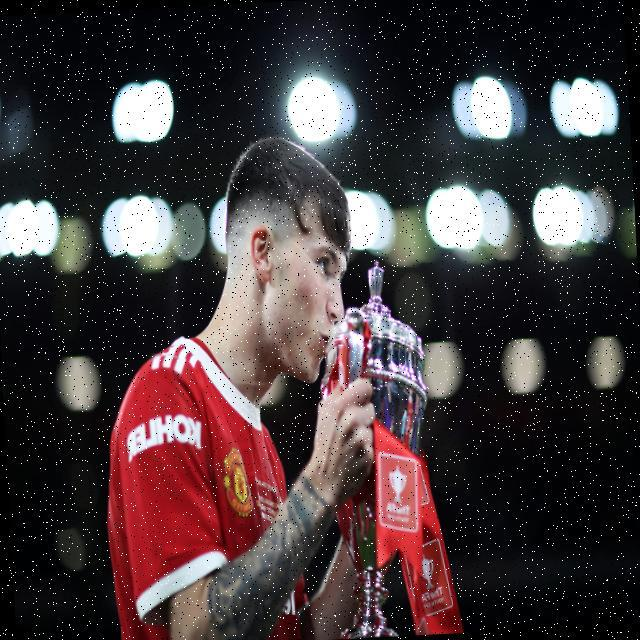Kohler: (122, 408, 204, 467)
